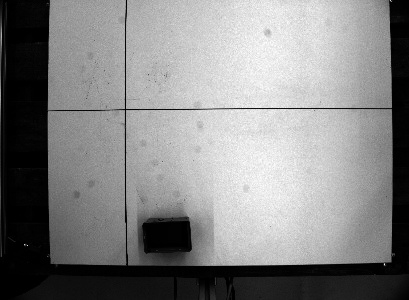kltxs: (140, 213, 195, 255)
